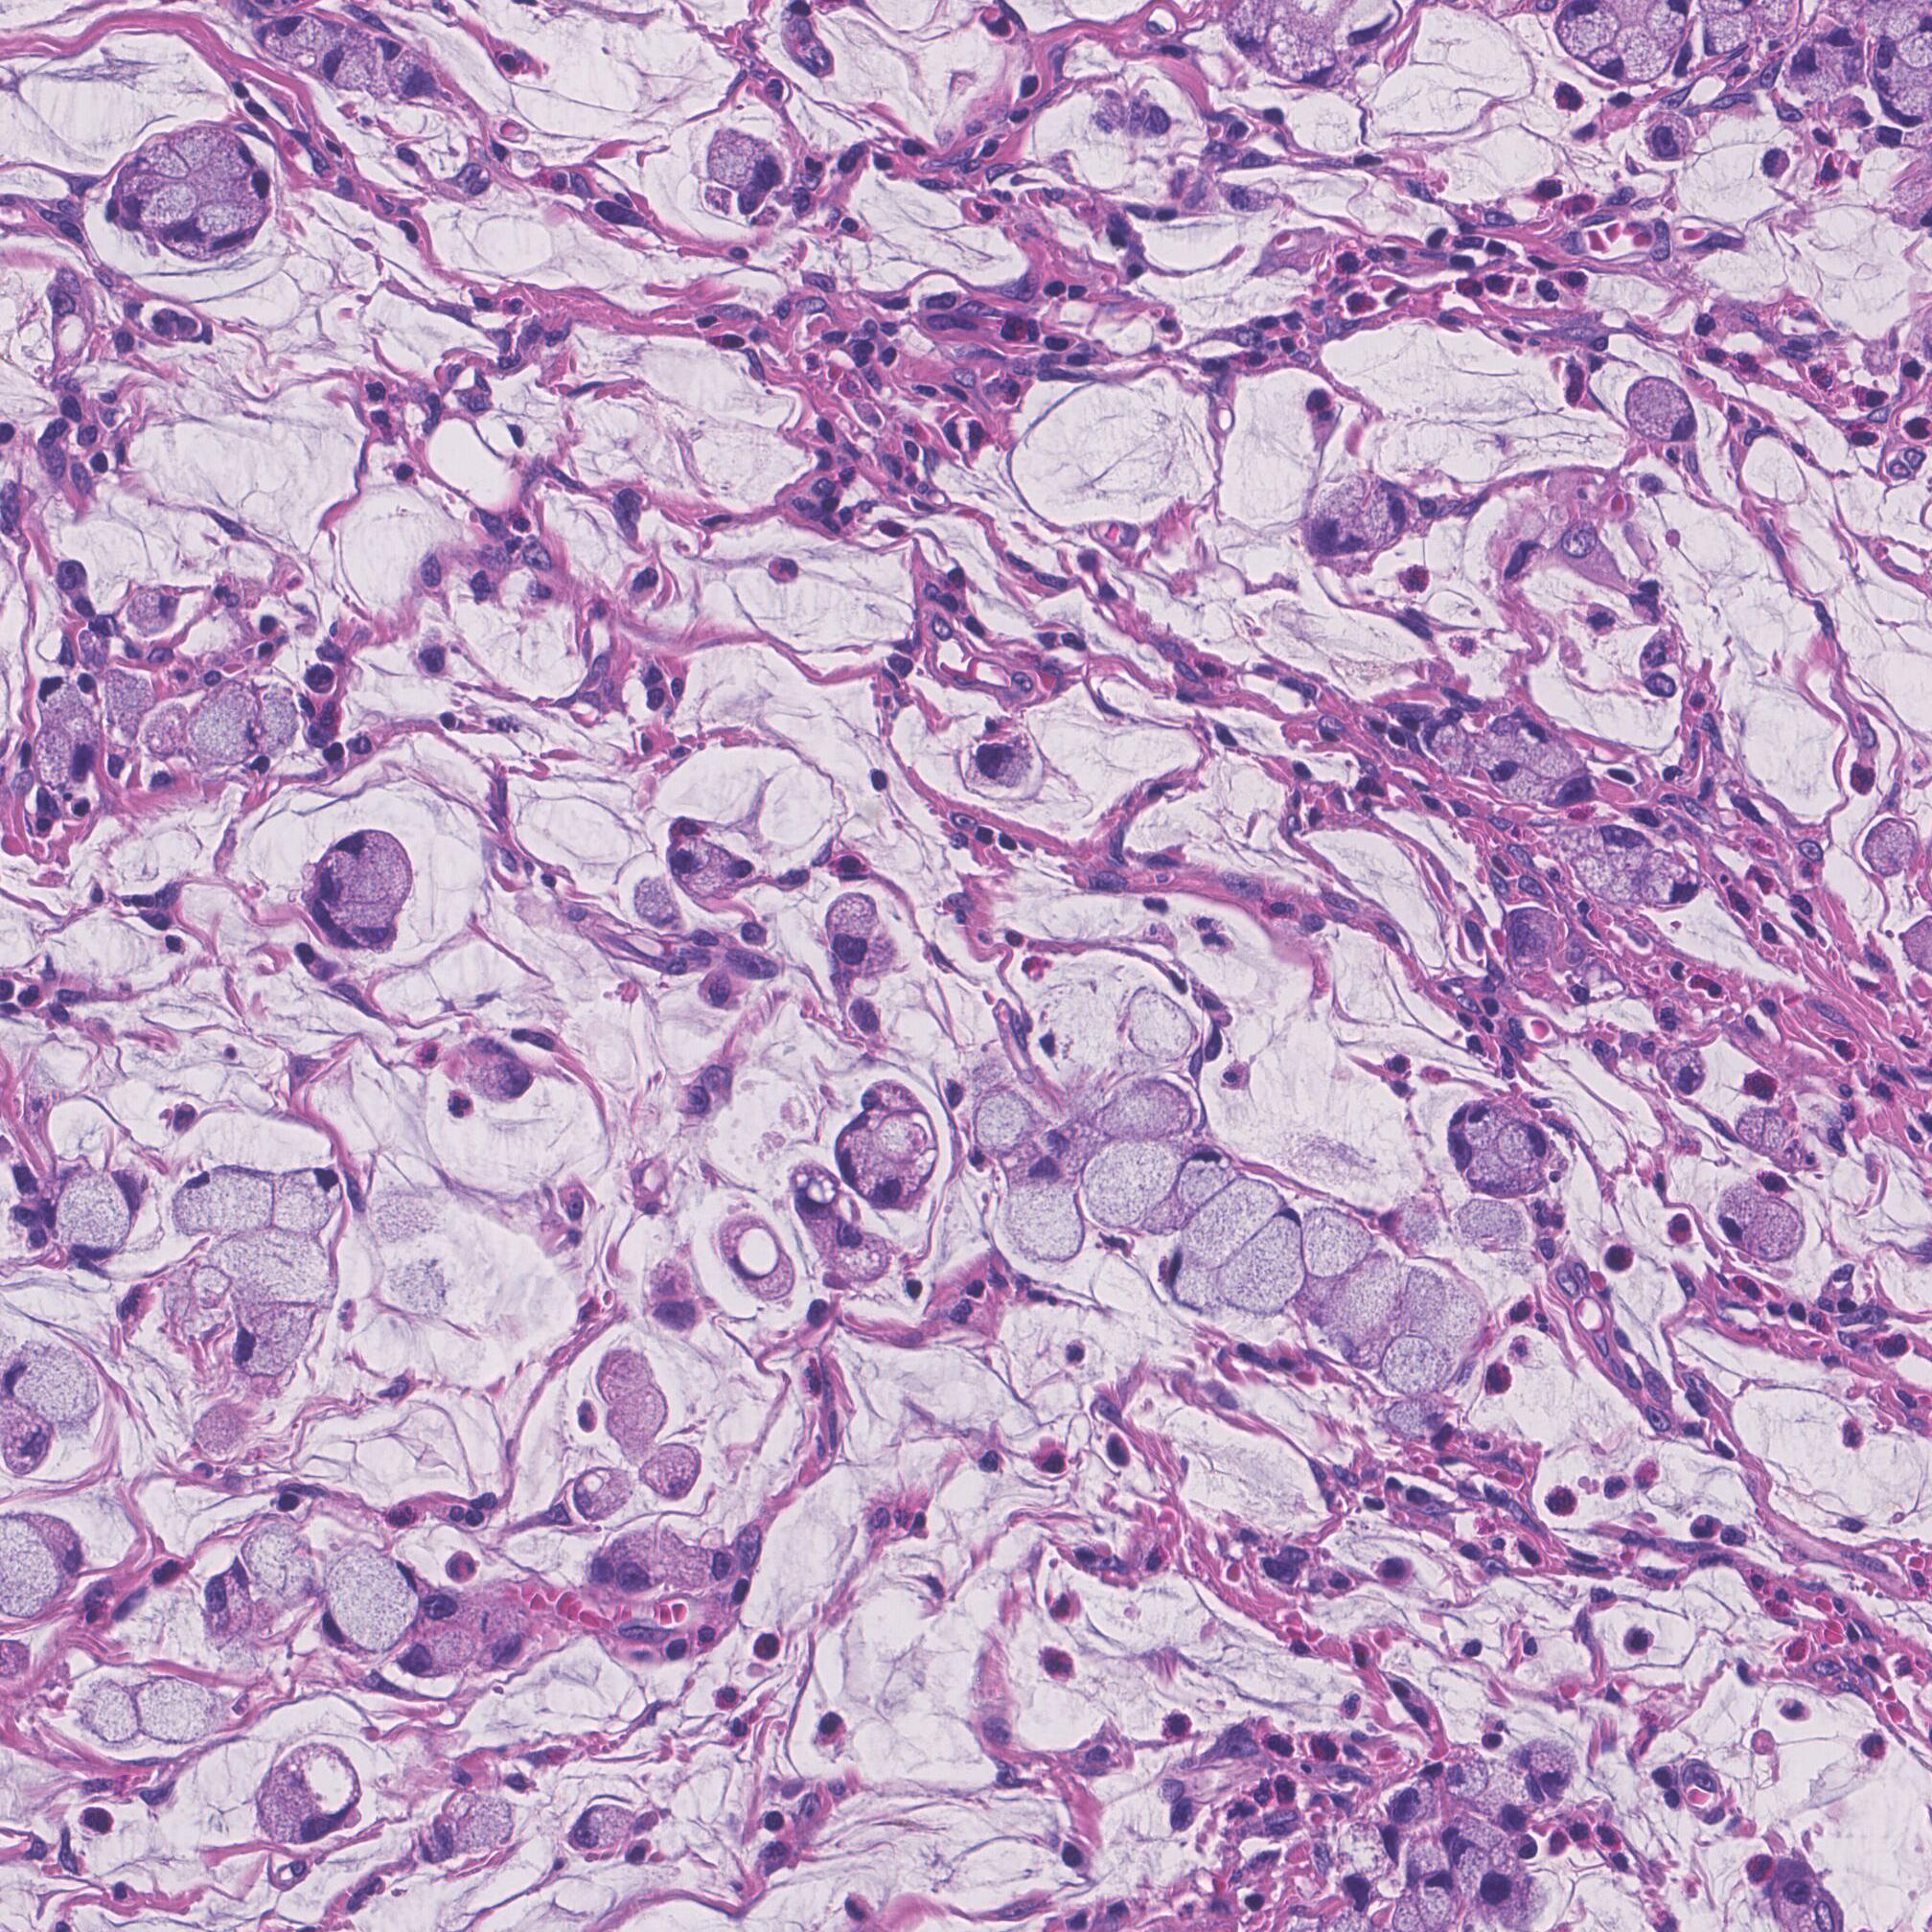ring_cell_cancer: (246, 1736, 368, 1844), (37, 1161, 152, 1261), (326, 1548, 425, 1652), (173, 1152, 283, 1246), (1468, 711, 1594, 793), (1226, 1207, 1313, 1316), (317, 826, 425, 911), (1709, 1184, 1810, 1265), (221, 1306, 324, 1380), (326, 823, 421, 899), (184, 685, 271, 768), (191, 676, 262, 773), (1150, 1237, 1226, 1327), (30, 699, 99, 798), (423, 1787, 522, 1856), (1169, 1131, 1247, 1215), (455, 1033, 541, 1108), (699, 124, 787, 196), (186, 681, 265, 757), (966, 734, 1058, 800), (1578, 30, 1681, 87), (1626, 375, 1706, 448), (272, 1164, 343, 1238), (1481, 497, 1543, 582), (1260, 35, 1359, 85), (828, 1109, 888, 1191), (1350, 478, 1415, 548), (826, 888, 885, 964), (327, 902, 410, 955), (722, 1215, 786, 1283), (140, 180, 202, 249), (637, 1444, 704, 1506), (191, 195, 269, 248), (1693, 11, 1762, 69), (570, 1465, 637, 1523), (1527, 1736, 1589, 1798), (1493, 1116, 1559, 1173), (198, 126, 255, 189), (320, 35, 384, 88), (1453, 1831, 1499, 1904), (122, 582, 177, 639), (1640, 110, 1695, 165), (1698, 12, 1766, 57), (267, 9, 318, 60), (630, 878, 683, 927), (338, 902, 398, 945)
